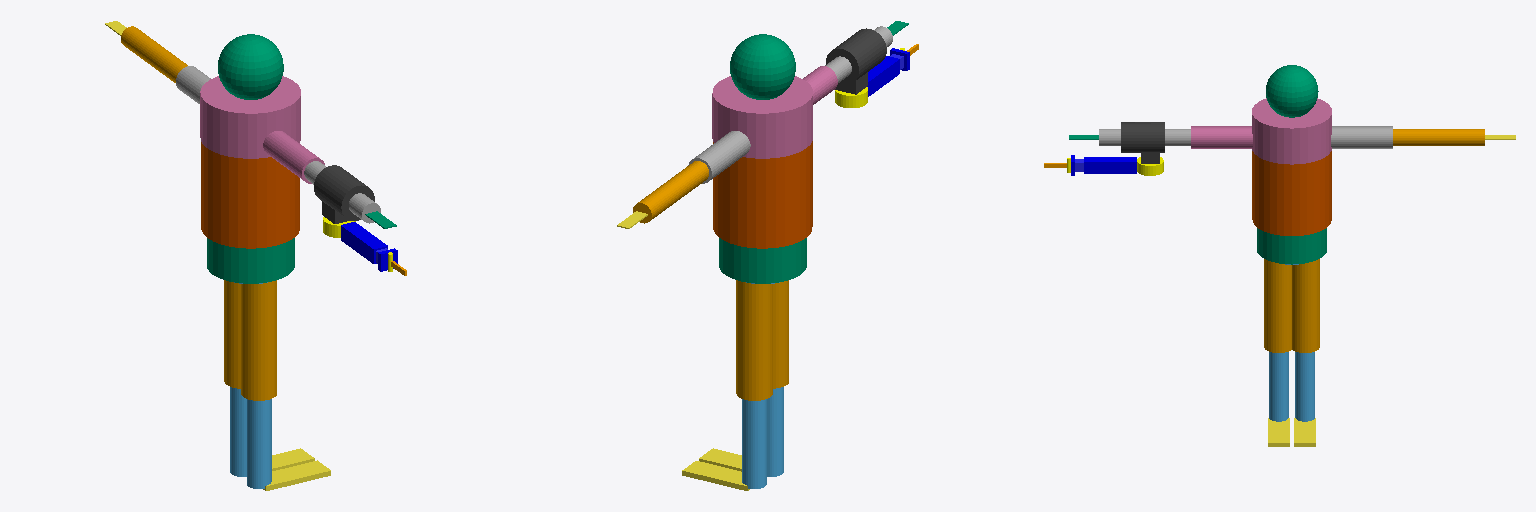
The robot description file, URDF, robot "third_arm_with_human_v1":
<?xml version="1.0" ?>
<!-- Third Arm URDF -->

<robot name="third_arm_with_human_v1">

  <!-- Third Arm Model I has 3 joints, need many more links to make the model -->

  <link name="base_link">
    <visual>
      <origin xyz="0 0 0" rpy ="1.5708 0 0"/>
      <material name="Grey">
      <color rgba="0.3 0.3 0.3 1.0"/>
      </material>
      <geometry>
        <cylinder length="0.2" radius="0.07" />
      </geometry>
    </visual>
  </link>
  
  <joint name="third_arm_with_human" type="fixed">
    <origin xyz="0.22 0 0" rpy="0 0 -1.57" />
    <parent link="human/right_elbow"/>
    <child link="base_link"/>
  </joint>

  <link name="block_to_base">
    <visual>
    <origin xyz="0 0 0" rpy ="0 1.5708  0"/>
      <material name="Gray">
       <color rgba="0.3 0.3 0.3 1.0"/>
      </material>   
      <geometry>
        <box size="0.08 0.09 .09"/>
      </geometry>
    </visual>
  </link>

  <joint name="brace_block_link" type="fixed">
    <origin xyz="0 -0.035 -0.07" rpy="0 0 0" />
    <parent link="base_link"/>
    <child link="block_to_base"/>
  </joint>


  <link name="base_motor">
    <inertial>
      <origin xyz="0 0 0" rpy ="0 0 0"/>
      <mass value="1"/>
      <inertia ixx="100"  ixy="0"  ixz="0" iyy="100" iyz="0" izz="100" />
    </inertial>
    <visual>
    <origin xyz="0 0 0" rpy ="0 0  0"/>
      <material name="Yellow">
       <color rgba="1.0 1.0 0.0 1.0"/>
      </material>   
      <geometry>
        <cylinder length="0.05" radius="0.06"/>
      </geometry>
    </visual>
  </link>


  <joint name="base_to_motor1" type="revolute">
    <axis xyz="0 0 1"/>
    <limit lower="-1.5708" upper="1.5708" effort="10" velocity="0.314"/>
    <origin xyz="0 0 -0.07" rpy="0 0 0" />
    <parent link="block_to_base"/>
    <child link="base_motor"/>
  </joint>



  <link name="extend_link1">
    <visual>
    <origin xyz="0 0 0" rpy ="0 0 0"/>
      <material name="Blue">
       <color rgba="0 0.0 1.0 0.7"/>
      </material>   
      <geometry>
        <box size="0.06 .24 .06"/>
      </geometry>
    </visual>
  </link>

  <joint name="motor1_to_extend1" type="fixed">
    <origin xyz="0 0.18 0" rpy="0 0 0" />
    <parent link="base_motor"/>
    <child link="extend_link1"/>
  </joint>

  <link name="extend_link2">
    <visual>
    <origin xyz="0 0 0" rpy ="0 0 0"/>
      <material name="Blue2">
       <color rgba="0.2 0.2 1.0 1.0"/>
      </material>   
      <geometry>
        <box size="0.045 .20 .045"/>
      </geometry>
    </visual>
  </link>

  <joint name="extension" type="prismatic">
    <axis xyz="0 1 0"/>
    <limit lower="0" upper="0.15" effort="10" velocity="5"/>
    <origin xyz="0 0.07 0" rpy="0 0 0" />
    <parent link="extend_link1"/>
    <child link="extend_link2"/>
  </joint>


  <link name="wrist_plate">
    <visual>
    <origin xyz="0 0 0" rpy ="0 0 0"/>
      <material name="Blue">
       <color rgba="0.0 0.0 1.0 1.0"/>
      </material>   
      <geometry>
        <box size="0.07 .02 .07"/>
      </geometry>
    </visual>
  </link>

  <joint name="wrist_motor_to_plate" type="fixed">
    <origin xyz="0 0.1 0" rpy="0 0 0" />
    <parent link="extend_link2"/>
    <child link="wrist_plate"/>
  </joint>

  <link name="gripper_motor">
    <inertial>
      <origin xyz="0 0 0" rpy =" 1.5708 0  0"/>
      <mass value="1"/>
      <inertia ixx="100"  ixy="0"  ixz="0" iyy="100" iyz="0" izz="100" />
    </inertial>
    <visual>
    <origin xyz="0 0 0" rpy ="0 0 0"/>
      <material name="Yellow">
       <color rgba="1.0 1.0 0.0 1.0"/>
      </material>   
      <geometry>
        <cylinder length="0.07" radius="0.01"/>
      </geometry>
    </visual>
  </link>

  <joint name="gripper_motor_to_plate" type="fixed">
    <origin xyz="0 0.02 0" rpy="0 0 0" />
    <parent link="wrist_plate"/>
    <child link="gripper_motor"/>
  </joint>

  <link name="finger1">
    <inertial>
      <origin xyz="0 0.06 0" rpy =" 0 0  0"/>
      <mass value="1"/>
      <inertia ixx="100"  ixy="0"  ixz="0" iyy="100" iyz="0" izz="100" />
    </inertial>   
    <visual>
    <origin xyz="0 0.06 0" rpy ="0 0 0"/>
      <material name="Orange1">
       <color rgba="1.0 0.65 0.0 1.0"/>
      </material>   
      <geometry>
        <box size="0.01 .1 .02"/>
      </geometry>
    </visual>
  </link>

  <joint name="finger1_to_gripper_motor" type="revolute">
    <axis xyz="0 0 1"/>
    <limit lower="0" upper="1" effort="5" velocity="0.5"/>
    <origin xyz="0 0 0" rpy="0 0 0" />
    <parent link="gripper_motor"/>
    <child link="finger1"/>
  </joint>

  <link name="finger2">
    <inertial>
      <origin xyz="0 0.06 0" rpy =" 0 0  0"/>
      <mass value="1"/>
      <inertia ixx="100"  ixy="0"  ixz="0" iyy="100" iyz="0" izz="100" />
    </inertial>
    <visual>
    <origin xyz="0 0.06 0" rpy ="0 0 0"/>
      <material name="Orange2">
       <color rgba="1.0 0.55 0.0 1.0"/>
      </material>   
      <geometry>
        <box size="0.01 .1 .02"/>
      </geometry>
    </visual>
  </link>

  <joint name="finger2_to_gripper_motor" type="revolute">
    <axis xyz="0 0 1"/>
    <limit lower="-1" upper="0" effort="5" velocity="0.5"/>
    <origin xyz="0 0 0" rpy="0 0 0" />
    <mimic joint="finger1_to_gripper_motor" multiplier="-1" />
    <parent link="gripper_motor"/>
    <child link="finger2"/>
  </joint>

<!--/robot-->

<!-- HUMAN URDF -->
<!--robot name="human_model" xmlns:xacro="http://playerstage.sourceforge.net/gazebo/xmlschema/#interface"-->
<link name="human/base">
    <visual>
      <origin rpy="0 0 0" xyz="0 0 -0.009"/>
      <geometry>
        <cylinder length="-0.018" radius="0.126"/>
      </geometry>
    </visual>
  </link>
  <link name="human/spine_0">
    <visual>
      <origin rpy="0 0 0" xyz="0 0 0.075"/>
      <geometry>
        <cylinder length="0.15" radius="0.16"/>
      </geometry>
    </visual>
  </link>
  <link name="human/spine_1"/>
  <link name="human/spine_2"/>
  <link name="human/spine">
    <visual>
      <origin rpy="0 0 0" xyz="0 0 0.18"/>
      <geometry>
        <cylinder length="0.36" radius="0.18"/>
      </geometry>
    </visual>
  </link>
  <link name="human/shoulder_center">
    <visual>
      <origin rpy="0 0 0" xyz="0 0 0.09"/>
      <geometry>
        <cylinder length="0.18" radius="0.183"/>
      </geometry>
    </visual>
  </link>
  <link name="human/neck_0"/>
  <link name="human/neck_1"/>
  <link name="human/neck">
    <visual>
      <origin rpy="0 0 0" xyz="0 0 0.05"/>
      <geometry>
        <cylinder length="0.1" radius="0.051"/>
      </geometry>
    </visual>
  </link>
  <link name="human/head">
    <visual>
      <origin rpy="0 0 0" xyz="0 0 0"/>
      <geometry>
        <sphere radius="0.12"/>
      </geometry>
    </visual>
  </link>
  <joint name="hip" type="fixed">
    <origin rpy="0 0 0" xyz="0 0 0"/>
    <parent link="human/base"/>
    <child link="human/spine_0"/>
  </joint>
  <!-- SPINE : spherical -->
  <joint name="spine_0" type="revolute">
    <origin rpy="0 0 0" xyz="0 0 0.15"/>
    <axis xyz="1 0 0"/>
    <parent link="human/spine_0"/>
    <child link="human/spine_1"/>
    <limit effort="1" lower="-1.57079632679" upper="1.57079632679" velocity="1"/>
  </joint>
  <joint name="spine_1" type="revolute">
    <origin rpy="0 0 0" xyz="0 0 0"/>
    <axis xyz="0 1 0"/>
    <parent link="human/spine_1"/>
    <child link="human/spine_2"/>
    <limit effort="1" lower="-1.57079632679" upper="1.57079632679" velocity="1"/>
  </joint>
  <joint name="spine_2" type="revolute">
    <origin rpy="0 0 0" xyz="0 0 0"/>
    <axis xyz="0 0 1"/>
    <parent link="human/spine_2"/>
    <child link="human/spine"/>
    <limit effort="1" lower="-1.57079632679" upper="1.57079632679" velocity="1"/>
  </joint>
  <joint name="shoulder_center" type="fixed">
    <origin rpy="0 0 0" xyz="0 0 0.36"/>
    <parent link="human/spine"/>
    <child link="human/shoulder_center"/>
  </joint>
  <!-- NECK : spherical -->
  <joint name="neck_0" type="revolute">
    <origin rpy="0 0 0" xyz="0 0 0.18"/>
    <axis xyz="1 0 0"/>
    <parent link="human/shoulder_center"/>
    <child link="human/neck_0"/>
    <limit effort="1" lower="-1.57079632679" upper="1.57079632679" velocity="1"/>
  </joint>
  <joint name="neck_1" type="revolute">
    <origin rpy="0 0 0" xyz="0 0 0"/>
    <axis xyz="0 1 0"/>
    <parent link="human/neck_0"/>
    <child link="human/neck_1"/>
    <limit effort="1" lower="-1.57079632679" upper="1.57079632679" velocity="1"/>
  </joint>
  <joint name="neck_2" type="revolute">
    <origin rpy="0 0 0" xyz="0 0 0"/>
    <axis xyz="0 0 1"/>
    <parent link="human/neck_1"/>
    <child link="human/neck"/>
    <limit effort="1" lower="-1.57079632679" upper="1.57079632679" velocity="1"/>
  </joint>
  <!-- END NECK -->
  <joint name="head" type="fixed">
    <origin rpy="0 0 0" xyz="0 0 0.1"/>
    <parent link="human/neck"/>
    <child link="human/head"/>
  </joint>
  <link name="human/right_arm_mount"/>
  <link name="human/right_shoulder_0"/>
  <link name="human/right_shoulder_1"/>
  <link name="human/right_shoulder">
    <visual>
      <origin rpy="0 1.57079632679 0" xyz="0.203 0 0"/>
      <geometry>
        <cylinder length="0.406" radius="0.05"/>
      </geometry>
    </visual>
  </link>
  <link name="human/right_elbow">
    <visual>
      <origin rpy="0 1.57079632679 0" xyz="0.2085 0 0"/>
      <geometry>
        <cylinder length="0.417" radius="0.04"/>
      </geometry>
    </visual>
  </link>
  <link name="human/right_wrist_0"/>
  <link name="human/right_wrist_1"/>
  <link name="human/right_wrist">
    <visual>
      <origin rpy="0 0 0" xyz="0.0695 0 0"/>
      <geometry>
        <box size="0.139 0.05 .005"/>
      </geometry>
    </visual>
  </link>
  <link name="human/right_hand"/>
  <!-- Joints -->
  <joint name="right_arm_mount" type="fixed">
    <origin rpy="0 0 -1.57079632679" xyz="0 -0.05 0.05"/>
    <parent link="human/shoulder_center"/>
    <child link="human/right_arm_mount"/>
  </joint>
  <!-- SHOULDER : spherical -->
  <joint name="right_shoulder_0" type="revolute">
    <origin rpy="0 0 0" xyz="0 0 0"/>
    <axis xyz="0 1 0"/>
    <parent link="human/right_arm_mount"/>
    <child link="human/right_shoulder_0"/>
    <limit effort="1" lower="-1.57079632679" upper="1.57079632679" velocity="1"/>
  </joint>
  <joint name="right_shoulder_1" type="revolute">
    <origin rpy="0 0 0" xyz="0 0 0"/>
    <axis xyz="0 0 1"/>
    <parent link="human/right_shoulder_0"/>
    <child link="human/right_shoulder_1"/>
    <limit effort="1" lower="-1.57079632679" upper="2.35619449019" velocity="1"/>
  </joint>
  <joint name="right_shoulder_2" type="revolute">
    <origin rpy="0 0 0" xyz="0 0 0"/>
    <axis xyz="1 0 0"/>
    <parent link="human/right_shoulder_1"/>
    <child link="human/right_shoulder"/>
    <limit effort="1" lower="-1.57079632679" upper="1.57079632679" velocity="1"/>
  </joint>
  <!-- END SHOULDER -->
  <joint name="right_elbow_0" type="revolute">
    <origin rpy="0 0 0" xyz="0.406 0 0"/>
    <axis xyz="0 0 1"/>
    <parent link="human/right_shoulder"/>
    <child link="human/right_elbow"/>
    <limit effort="1" lower="0.0" upper="3.14159265359" velocity="1"/>
  </joint>
  <joint name="right_wrist_0" type="revolute">
    <origin rpy="0 0 0" xyz="0.417 0 0"/>
    <axis xyz="0 0 1"/>
    <parent link="human/right_elbow"/>
    <child link="human/right_wrist_0"/>
    <limit effort="1" lower="-0.78539816339" upper="0.78539816339" velocity="1"/>
  </joint>
  <joint name="right_wrist_1" type="revolute">
    <origin rpy="0 0 0" xyz="0 0 0"/>
    <axis xyz="0 1 0"/>
    <parent link="human/right_wrist_0"/>
    <child link="human/right_wrist_1"/>
    <limit effort="1" lower="-1.57079632679" upper="1.57079632679" velocity="1"/>
  </joint>
  <joint name="right_wrist_2" type="revolute">
    <origin rpy="0 0 0" xyz="0 0 0"/>
    <axis xyz="1 0 0"/>
    <parent link="human/right_wrist_1"/>
    <child link="human/right_wrist"/>
    <limit effort="1" lower="-1.57079632679" upper="1.57079632679" velocity="1"/>
  </joint>
  <joint name="right_hand" type="fixed">
    <origin rpy="0 0 0" xyz="0.139 0 0"/>
    <parent link="human/right_wrist"/>
    <child link="human/right_hand"/>
  </joint>
  <link name="human/left_arm_mount"/>
  <link name="human/left_shoulder_0"/>
  <link name="human/left_shoulder_1"/>
  <link name="human/left_shoulder">
    <visual>
      <origin rpy="0 1.57079632679 0" xyz="0.203 0 0"/>
      <geometry>
        <cylinder length="0.406" radius="0.05"/>
      </geometry>
    </visual>
  </link>
  <link name="human/left_elbow">
    <visual>
      <origin rpy="0 1.57079632679 0" xyz="0.2085 0 0"/>
      <geometry>
        <cylinder length="0.417" radius="0.04"/>
      </geometry>
    </visual>
  </link>
  <link name="human/left_wrist_0"/>
  <link name="human/left_wrist_1"/>
  <link name="human/left_wrist">
    <visual>
      <origin rpy="0 0 0" xyz="0.0695 0 0"/>
      <geometry>
        <box size="0.139 0.05 .005"/>
      </geometry>
    </visual>
  </link>
  <link name="human/left_hand"/>
  <!-- Joints -->
  <joint name="left_arm_mount" type="fixed">
    <origin rpy="0 0 1.57079632679" xyz="0 0.05 0.05"/>
    <parent link="human/shoulder_center"/>
    <child link="human/left_arm_mount"/>
  </joint>
  <!-- SHOULDER : spherical -->
  <joint name="left_shoulder_0" type="revolute">
    <origin rpy="0 0 0" xyz="0 0 0"/>
    <axis xyz="0 1 0"/>
    <parent link="human/left_arm_mount"/>
    <child link="human/left_shoulder_0"/>
    <limit effort="1" lower="-1.57079632679" upper="1.57079632679" velocity="1"/>
  </joint>
  <joint name="left_shoulder_1" type="revolute">
    <origin rpy="0 0 0" xyz="0 0 0"/>
    <axis xyz="0 0 1"/>
    <parent link="human/left_shoulder_0"/>
    <child link="human/left_shoulder_1"/>
    <limit effort="1" lower="-2.35619449019" upper="1.57079632679" velocity="1"/>
  </joint>
  <joint name="left_shoulder_2" type="revolute">
    <origin rpy="0 0 0" xyz="0 0 0"/>
    <axis xyz="1 0 0"/>
    <parent link="human/left_shoulder_1"/>
    <child link="human/left_shoulder"/>
    <limit effort="1" lower="-1.57079632679" upper="1.57079632679" velocity="1"/>
  </joint>
  <!-- END SHOULDER -->
  <joint name="left_elbow_0" type="revolute">
    <origin rpy="0 0 0" xyz="0.406 0 0"/>
    <axis xyz="0 0 1"/>
    <parent link="human/left_shoulder"/>
    <child link="human/left_elbow"/>
    <limit effort="1" lower="-3.14159265359" upper="0.0" velocity="1"/>
  </joint>
  <joint name="left_wrist_0" type="revolute">
    <origin rpy="0 0 0" xyz="0.417 0 0"/>
    <axis xyz="0 0 1"/>
    <parent link="human/left_elbow"/>
    <child link="human/left_wrist_0"/>
    <limit effort="1" lower="-0.78539816339" upper="0.78539816339" velocity="1"/>
  </joint>
  <joint name="left_wrist_1" type="revolute">
    <origin rpy="0 0 0" xyz="0 0 0"/>
    <axis xyz="0 1 0"/>
    <parent link="human/left_wrist_0"/>
    <child link="human/left_wrist_1"/>
    <limit effort="1" lower="-1.57079632679" upper="1.57079632679" velocity="1"/>
  </joint>
  <joint name="left_wrist_2" type="revolute">
    <origin rpy="0 0 0" xyz="0 0 0"/>
    <axis xyz="1 0 0"/>
    <parent link="human/left_wrist_1"/>
    <child link="human/left_wrist"/>
    <limit effort="1" lower="-1.57079632679" upper="1.57079632679" velocity="1"/>
  </joint>
  <joint name="left_hand" type="fixed">
    <origin rpy="0 0 0" xyz="0.139 0 0"/>
    <parent link="human/left_wrist"/>
    <child link="human/left_hand"/>
  </joint>
  <link name="human/right_leg_mount"/>
  <link name="human/right_hip_0"/>
  <link name="human/right_hip_1"/>
  <link name="human/right_hip">
    <visual>
      <origin rpy="0 1.57079632679 0" xyz="0.2345 0 0"/>
      <geometry>
        <cylinder length="0.469" radius="0.066"/>
      </geometry>
    </visual>
  </link>
  <link name="human/right_knee">
    <visual>
      <origin rpy="0 1.57079632679 0" xyz="0.181 0 0"/>
      <geometry>
        <cylinder length="0.362" radius="0.045"/>
      </geometry>
    </visual>
  </link>
  <link name="human/right_ankle_0"/>
  <link name="human/right_ankle">
    <visual>
      <origin rpy="0 0 0" xyz="0.1365 0 0"/>
      <geometry>
        <box size="0.273 0.1 .02"/>
      </geometry>
    </visual>
  </link>
  <link name="human/right_foot"/>
  <!-- Joints -->
  <joint name="right_hip_leg_mount" type="fixed">
    <origin rpy="0 1.57079632679 0" xyz="0 -0.06 -0.018"/>
    <parent link="human/base"/>
    <child link="human/right_leg_mount"/>
  </joint>
  <!-- hip : spherical -->
  <joint name="right_hip_0" type="revolute">
    <origin rpy="0 0 0" xyz="0 0 0"/>
    <axis xyz="0 0 1"/>
    <parent link="human/right_leg_mount"/>
    <child link="human/right_hip_0"/>
    <limit effort="1" lower="-1.57079632679" upper="1.57079632679" velocity="1"/>
  </joint>
  <joint name="right_hip_1" type="revolute">
    <origin rpy="0 0 0" xyz="0 0 0"/>
    <axis xyz="0 1 0"/>
    <parent link="human/right_hip_0"/>
    <child link="human/right_hip_1"/>
    <limit effort="1" lower="-1.57079632679" upper="1.57079632679" velocity="1"/>
  </joint>
  <joint name="right_hip_2" type="revolute">
    <origin rpy="0 0 0" xyz="0 0 0"/>
    <axis xyz="1 0 0"/>
    <parent link="human/right_hip_1"/>
    <child link="human/right_hip"/>
    <limit effort="1" lower="-1.57079632679" upper="1.57079632679" velocity="1"/>
  </joint>
  <!-- END hip -->
  <joint name="right_knee_0" type="revolute">
    <origin rpy="1.57079632679 0 0" xyz="0.469 0 0"/>
    <axis xyz="0 0 1"/>
    <parent link="human/right_hip"/>
    <child link="human/right_knee"/>
    <limit effort="1" lower="-3.14159265359" upper="0.1" velocity="1"/>
  </joint>
  <!-- ankle : spherical -->
  <joint name="right_ankle_0" type="revolute">
    <origin rpy="-1.57079632679 0 1.57079632679" xyz="0.362 0 0"/>
    <axis xyz="0 0 1"/>
    <parent link="human/right_knee"/>
    <child link="human/right_ankle_0"/>
    <limit effort="1" lower="-1.57079632679" upper="1.57079632679" velocity="1"/>
  </joint>
  <joint name="right_ankle_1" type="revolute">
    <origin rpy="0 0 0" xyz="0 0 0"/>
    <axis xyz="0 1 0"/>
    <parent link="human/right_ankle_0"/>
    <child link="human/right_ankle"/>
    <limit effort="1" lower="-1.57079632679" upper="1.57079632679" velocity="1"/>
  </joint>
  <!-- END ankle -->
  <joint name="right_foot" type="fixed">
    <origin rpy="0 0 0" xyz="0.273 0 0"/>
    <parent link="human/right_ankle"/>
    <child link="human/right_foot"/>
  </joint>
  <link name="human/left_leg_mount"/>
  <link name="human/left_hip_0"/>
  <link name="human/left_hip_1"/>
  <link name="human/left_hip">
    <visual>
      <origin rpy="0 1.57079632679 0" xyz="0.2345 0 0"/>
      <geometry>
        <cylinder length="0.469" radius="0.066"/>
      </geometry>
    </visual>
  </link>
  <link name="human/left_knee">
    <visual>
      <origin rpy="0 1.57079632679 0" xyz="0.181 0 0"/>
      <geometry>
        <cylinder length="0.362" radius="0.045"/>
      </geometry>
    </visual>
  </link>
  <link name="human/left_ankle_0"/>
  <link name="human/left_ankle">
    <visual>
      <origin rpy="0 0 0" xyz="0.1365 0 0"/>
      <geometry>
        <box size="0.273 0.1 .02"/>
      </geometry>
    </visual>
  </link>
  <link name="human/left_foot"/>
  <!-- Joints -->
  <joint name="left_hip_leg_mount" type="fixed">
    <origin rpy="0 1.57079632679 0" xyz="0 0.06 -0.018"/>
    <parent link="human/base"/>
    <child link="human/left_leg_mount"/>
  </joint>
  <!-- hip : spherical -->
  <joint name="left_hip_0" type="revolute">
    <origin rpy="0 0 0" xyz="0 0 0"/>
    <axis xyz="0 0 1"/>
    <parent link="human/left_leg_mount"/>
    <child link="human/left_hip_0"/>
    <limit effort="1" lower="-1.57079632679" upper="1.57079632679" velocity="1"/>
  </joint>
  <joint name="left_hip_1" type="revolute">
    <origin rpy="0 0 0" xyz="0 0 0"/>
    <axis xyz="0 1 0"/>
    <parent link="human/left_hip_0"/>
    <child link="human/left_hip_1"/>
    <limit effort="1" lower="-1.57079632679" upper="1.57079632679" velocity="1"/>
  </joint>
  <joint name="left_hip_2" type="revolute">
    <origin rpy="0 0 0" xyz="0 0 0"/>
    <axis xyz="1 0 0"/>
    <parent link="human/left_hip_1"/>
    <child link="human/left_hip"/>
    <limit effort="1" lower="-1.57079632679" upper="1.57079632679" velocity="1"/>
  </joint>
  <!-- END hip -->
  <joint name="left_knee_0" type="revolute">
    <origin rpy="1.57079632679 0 0" xyz="0.469 0 0"/>
    <axis xyz="0 0 1"/>
    <parent link="human/left_hip"/>
    <child link="human/left_knee"/>
    <limit effort="1" lower="-3.14159265359" upper="0.1" velocity="1"/>
  </joint>
  <!-- ankle : spherical -->
  <joint name="left_ankle_0" type="revolute">
    <origin rpy="-1.57079632679 0 1.57079632679" xyz="0.362 0 0"/>
    <axis xyz="0 0 1"/>
    <parent link="human/left_knee"/>
    <child link="human/left_ankle_0"/>
    <limit effort="1" lower="-1.57079632679" upper="1.57079632679" velocity="1"/>
  </joint>
  <joint name="left_ankle_1" type="revolute">
    <origin rpy="0 0 0" xyz="0 0 0"/>
    <axis xyz="0 1 0"/>
    <parent link="human/left_ankle_0"/>
    <child link="human/left_ankle"/>
    <limit effort="1" lower="-1.57079632679" upper="1.57079632679" velocity="1"/>
  </joint>
  <!-- END ankle -->
  <joint name="left_foot" type="fixed">
    <origin rpy="0 0 0" xyz="0.273 0 0"/>
    <parent link="human/left_ankle"/>
    <child link="human/left_foot"/>
  </joint>
</robot>

--- Render facts (derived) ---
Views: 3 orthographic renders of the robot side by side, from view 1: azimuth 30°, elevation 25°; view 2: azimuth 150°, elevation 25°; view 3: azimuth 270°, elevation 25°.
Robot: third_arm_with_human_v1 — 53 links, 52 joints (35 revolute, 1 prismatic, 16 fixed); root link human/base; default pose: every joint at zero.
Links seen in each view (by area): view 1: human/spine, human/shoulder_center, human/right_hip, human/head, human/spine_0, human/right_knee, human/left_hip, base_link, human/left_elbow, human/left_knee, human/right_shoulder, human/right_ankle (+4 smaller); view 2: human/spine, human/shoulder_center, human/left_hip, human/head, human/spine_0, human/left_knee, human/left_elbow, base_link, human/right_hip, human/right_knee, human/left_shoulder, human/left_ankle (+4 smaller); view 3: human/spine, human/shoulder_center, human/right_hip, human/left_hip, human/head, human/spine_0, human/left_elbow, human/right_shoulder, human/left_shoulder, human/right_knee, human/left_knee, base_link (+4 smaller).
Boxes of the visible links, x1,y1,x2,y2 form: human/spine: (201,142,299,248); human/shoulder_center: (200,76,300,158); human/right_hip: (241,280,276,400); human/head: (218,34,283,99); human/spine_0: (207,238,294,283); human/right_knee: (247,399,271,488); human/left_hip: (224,280,240,388); base_link: (314,165,374,220); human/left_elbow: (121,26,187,82); human/left_knee: (230,387,246,476); human/right_shoulder: (263,131,324,183); human/right_ankle: (263,460,330,490); human/spine: (713,141,812,248); human/shoulder_center: (712,76,812,158); human/left_hip: (736,280,772,400); human/head: (730,34,795,99); human/spine_0: (719,238,806,283); human/left_knee: (742,399,766,488); human/left_elbow: (633,161,708,223); base_link: (826,28,886,84); human/right_hip: (773,280,788,388); human/right_knee: (767,387,783,476); human/left_shoulder: (688,131,750,183); human/left_ankle: (682,461,749,490); human/spine: (1252,151,1331,235); human/shoulder_center: (1252,98,1331,164); human/right_hip: (1264,259,1291,352); human/left_hip: (1292,259,1319,352); human/head: (1266,65,1318,117); human/spine_0: (1257,228,1326,264); human/left_elbow: (1393,129,1484,145); human/right_shoulder: (1191,126,1252,148); human/left_shoulder: (1331,126,1392,148); human/right_knee: (1269,352,1288,421); human/left_knee: (1295,352,1314,421); base_link: (1121,122,1164,152).
Size in the robot's own frame: 0.456 by 2.13 by 1.77 metres.
Geometry: primitives only (box / cylinder / sphere), no mesh files.